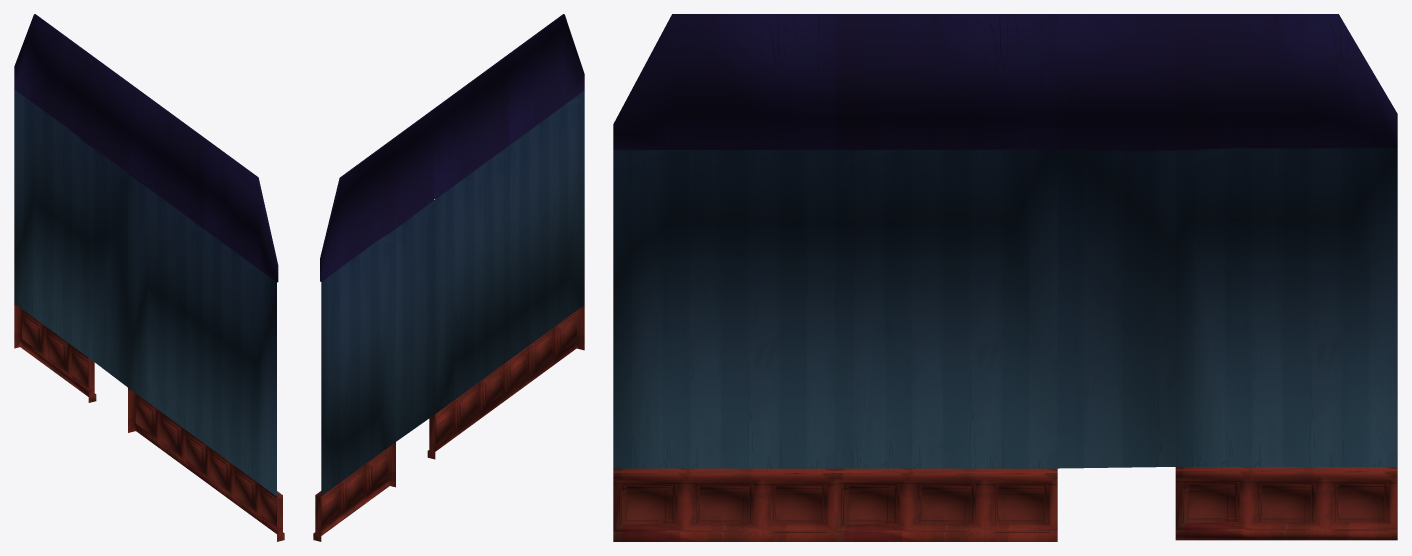
Rendered from ParedeGrande.fbx.
3 views of the same model, side by side, from view 1: azimuth 30°, elevation 25°; view 2: azimuth 150°, elevation 25°; view 3: azimuth 270°, elevation 25° (orthographic). The views are drawn at different scales.
Parts seen in each view (by area): view 1: ParedeGrande; view 2: ParedeGrande; view 3: ParedeGrande.
Boxes of the visible parts, x1=… form: ParedeGrande: x1=14, y1=14, x2=284, y2=541; ParedeGrande: x1=313, y1=14, x2=584, y2=541; ParedeGrande: x1=613, y1=14, x2=1397, y2=541.
Size of the model in its own units: 20.49 by 1186 by 871.
